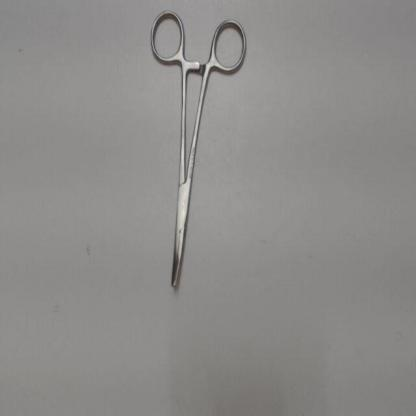Crile Artery Forceps: (143, 4, 251, 298)
